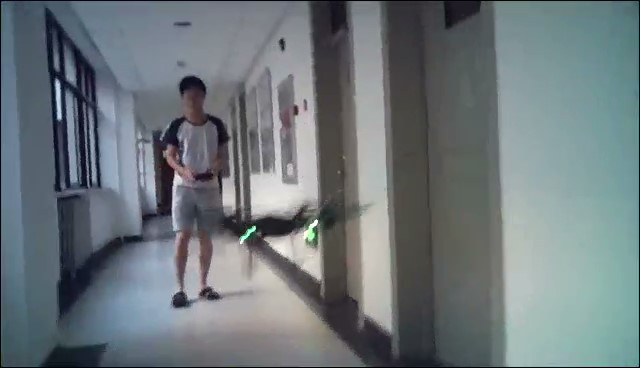drone: (200, 196, 370, 250)
person: (158, 72, 230, 308)
